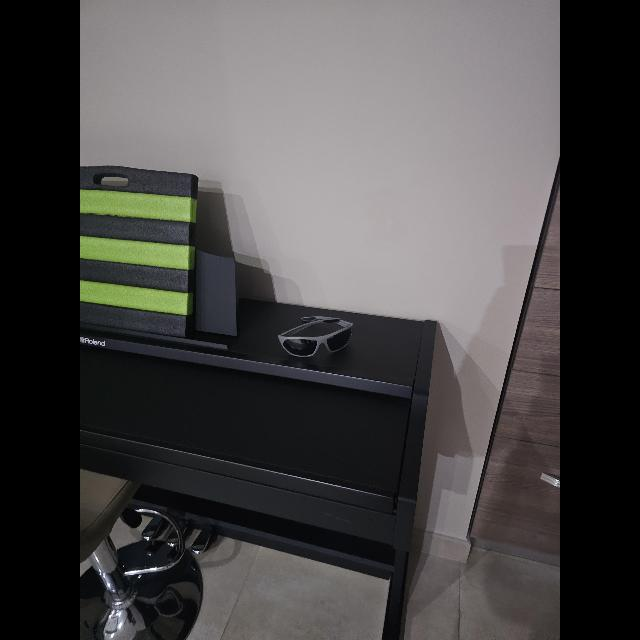Sunglasses: (278, 317, 352, 357)
